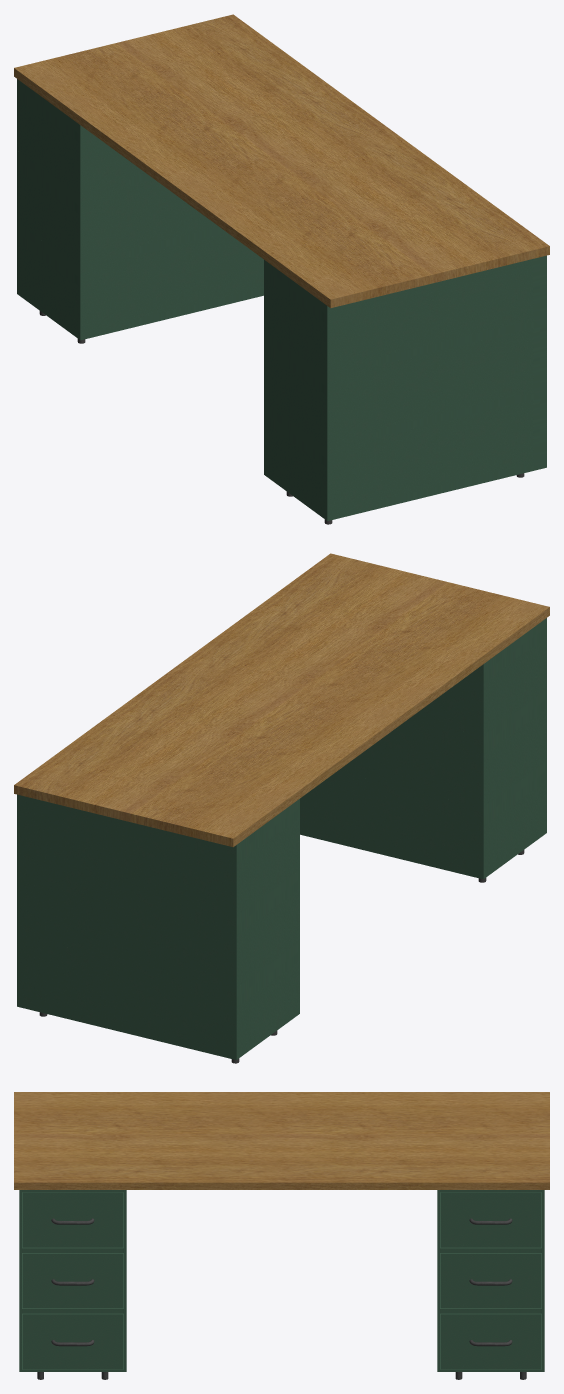
Rendered from work_table.obj.
3 renders of one model, top to bottom at view 1: azimuth 30°, elevation 25°; view 2: azimuth 150°, elevation 25°; view 3: azimuth 270°, elevation 25°, orthographic. The views are drawn at different scales.
Visible parts, largest first — view 1: work_table; view 2: work_table; view 3: work_table, dresser_3, dresser_6, dresser_1, dresser_4, dresser_2, dresser_5.
Boxes of the visible parts, box(x1,y1,x2,y2) form: work_table: box(14, 14, 549, 524); work_table: box(14, 553, 549, 1063); work_table: box(14, 1092, 549, 1379); dresser_3: box(22, 1313, 123, 1369); dresser_6: box(440, 1313, 541, 1369); dresser_1: box(22, 1192, 123, 1247); dresser_4: box(440, 1192, 541, 1247); dresser_2: box(22, 1253, 123, 1308); dresser_5: box(440, 1253, 541, 1308).
Bounding box in the file's own units: 0.8307 × 0.83 × 2.
1 material, 1 textured.
